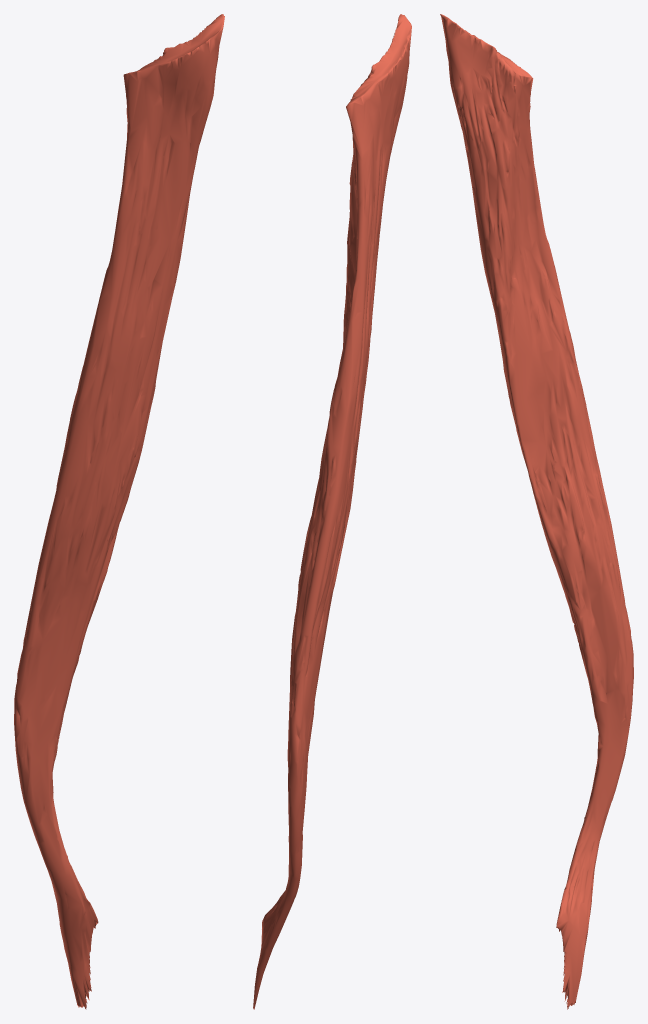
File: gracilis.glb
3 views of the same model, side by side, from view 1: azimuth 90°, elevation 25°; view 2: azimuth 150°, elevation 25°; view 3: azimuth 270°, elevation 25° (orthographic). The views are drawn at different scales.
Visible parts, largest first — view 1: Gracilis muscle.l; view 2: Gracilis muscle.l; view 3: Gracilis muscle.l.
Boxes of the visible parts, x1=… form: Gracilis muscle.l: x1=14, y1=14, x2=224, y2=1009; Gracilis muscle.l: x1=253, y1=14, x2=411, y2=1009; Gracilis muscle.l: x1=440, y1=14, x2=633, y2=1009.
Bounding box in the file's own units: 0.0531 × 0.4936 × 0.0908.
